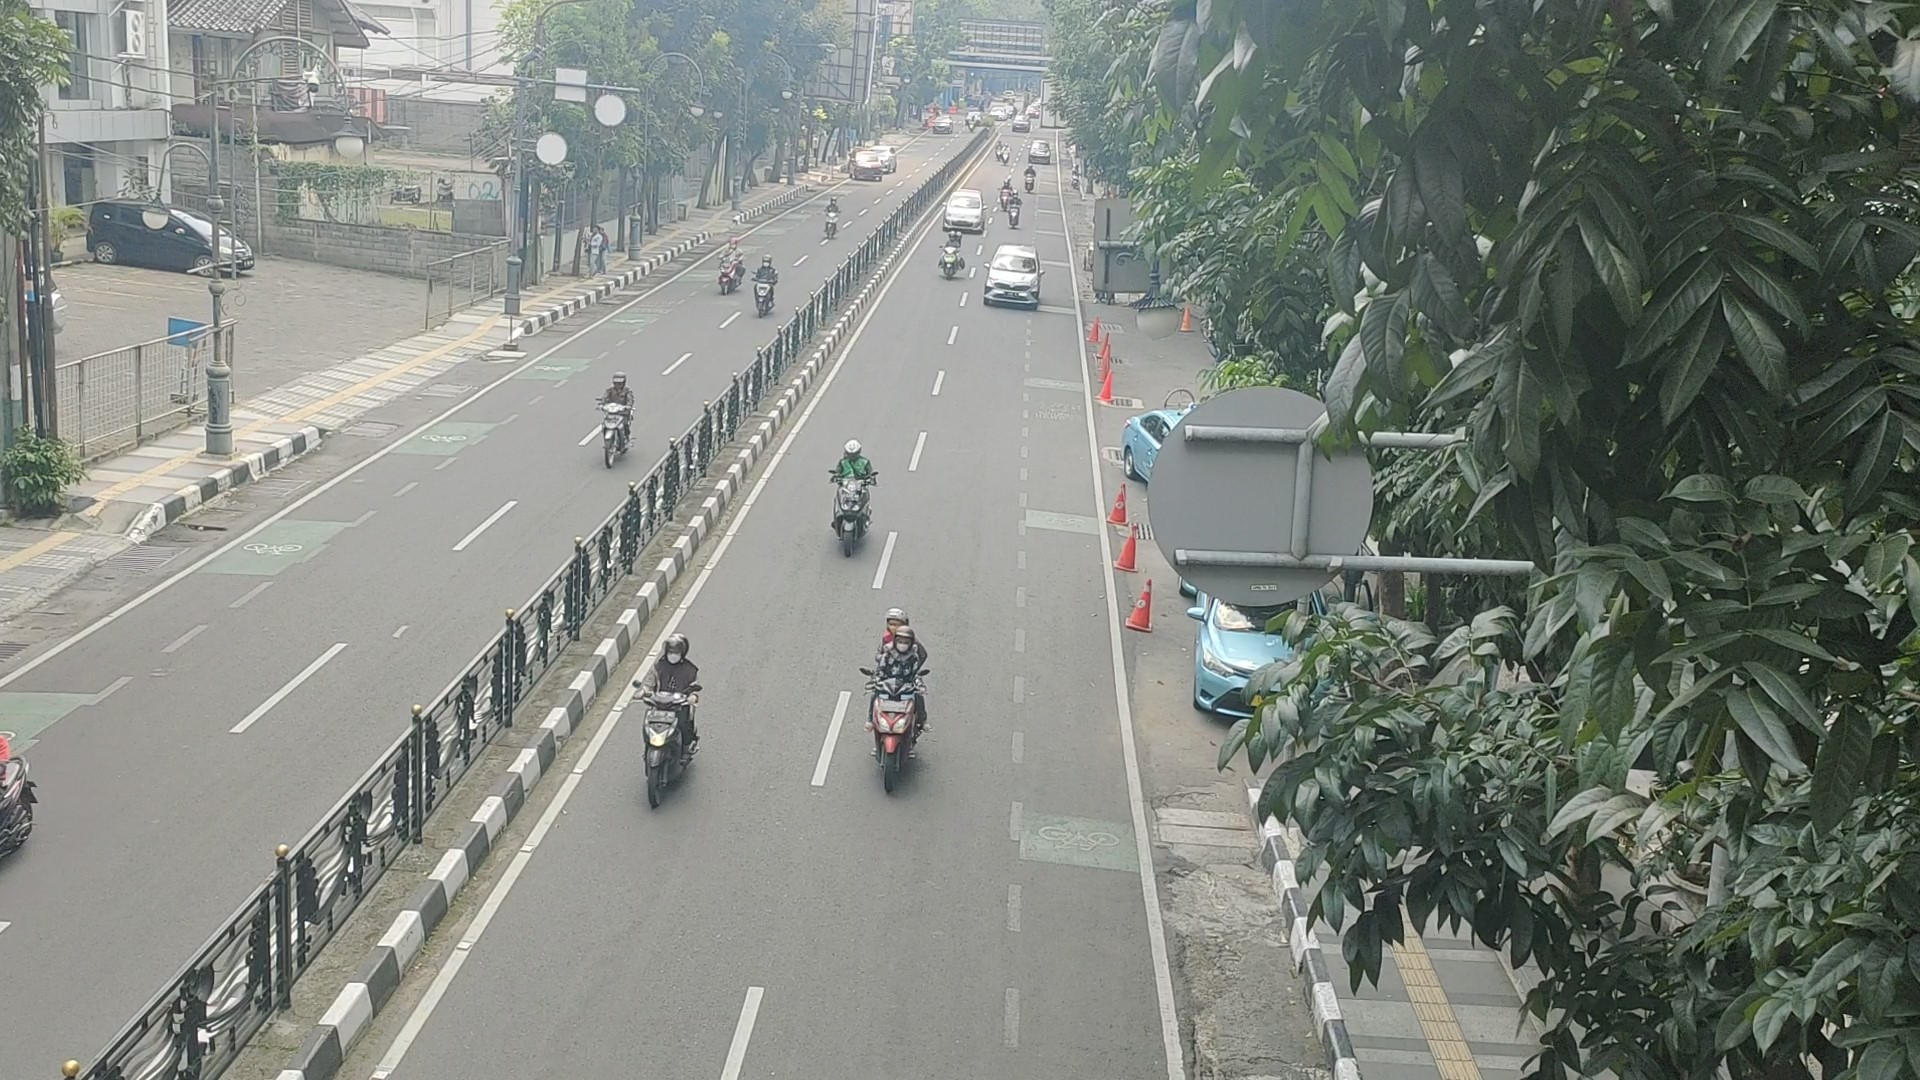mobil: (980, 243, 1043, 309), (938, 183, 986, 237)
motor: (855, 603, 932, 804), (634, 629, 704, 814), (825, 436, 878, 567), (595, 364, 636, 473), (750, 251, 782, 323), (709, 237, 746, 297), (938, 227, 968, 287), (1006, 189, 1025, 231)
